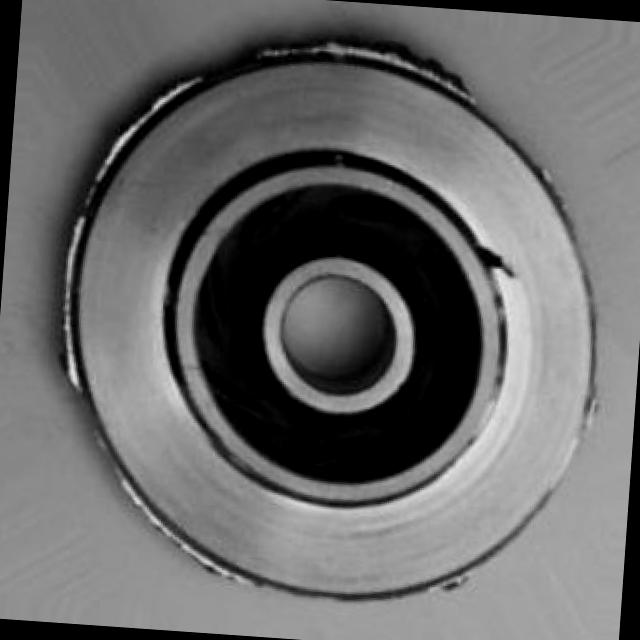Defect: (478, 233, 509, 284)
